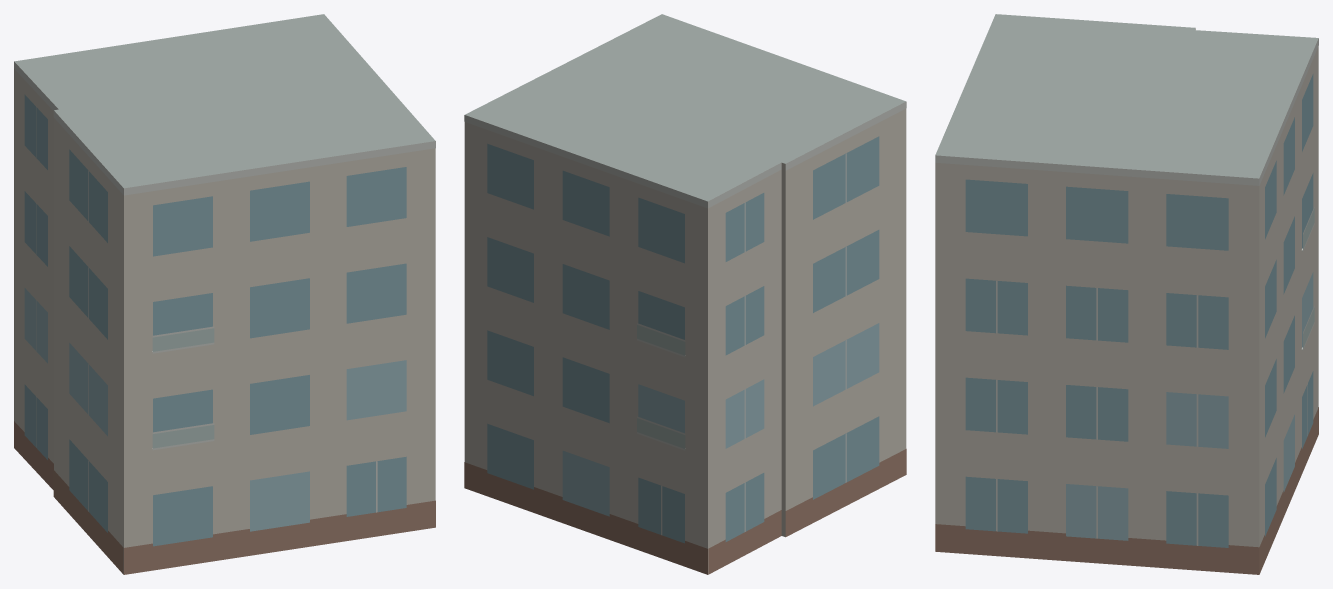
File: survey-upis-32665007.glb
3 renders of one model, left to right at view 1: azimuth 30°, elevation 25°; view 2: azimuth 150°, elevation 25°; view 3: azimuth 270°, elevation 25°, orthographic. The views are drawn at different scales.
Parts seen in each view (by area): view 1: survey-upis-32665007.tmp; view 2: survey-upis-32665007.tmp; view 3: survey-upis-32665007.tmp.
Part boxes in pixels (x1,y1,x2,y2): survey-upis-32665007.tmp: (14,14,435,574); survey-upis-32665007.tmp: (464,14,906,574); survey-upis-32665007.tmp: (935,14,1318,574).
Size of the model in its own units: 11.68 by 13.1 by 11.5.
